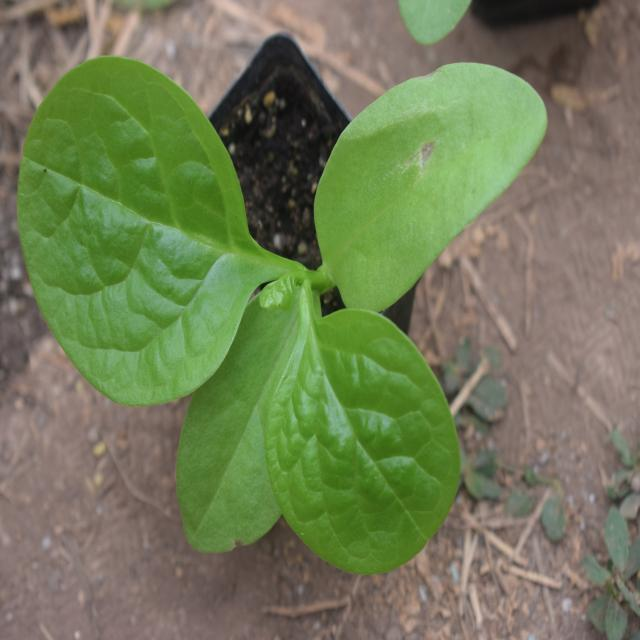Ceylon spinach: (4, 47, 545, 528)
